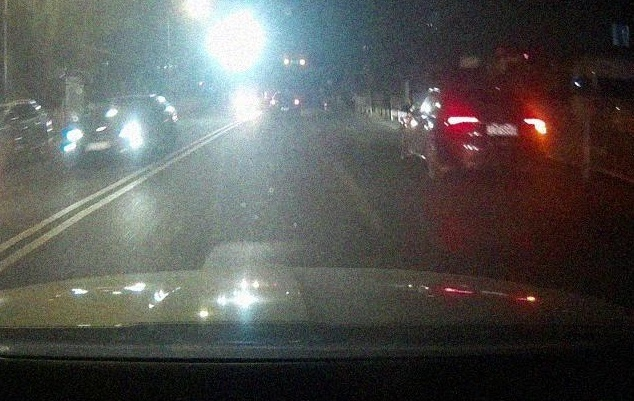L_light: (448, 116, 479, 124)
R_light: (524, 118, 546, 133)
T_light: (481, 98, 496, 101)
night-right: (442, 91, 547, 182)
